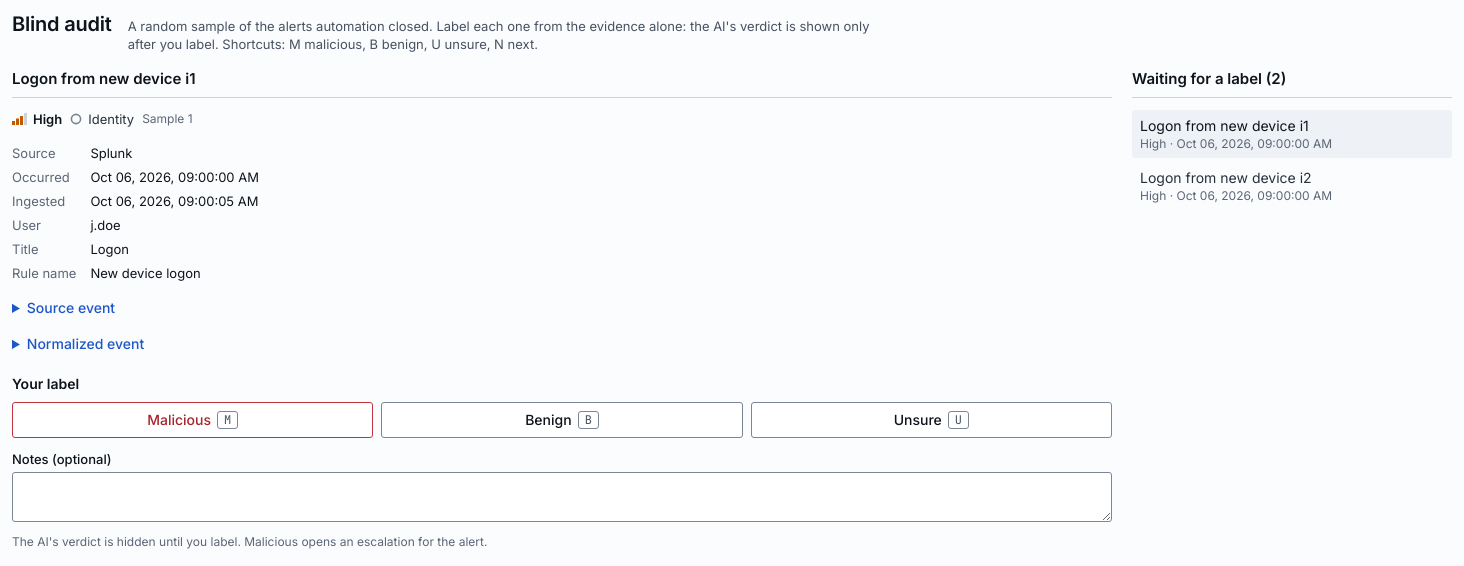
Test: BlindAuditPage › shows the evidence without any AI verdict, then reveals it after the label
expect the heading "Logon from new device i1" is shown: met, box x1=12 y1=69 x2=196 y2=89
expect the text "j.doe" is shown: met, box x1=90 y1=217 x2=121 y2=233
In the text box labelled "Notes (optional)": [562, 497] box x1=12 y1=472 x2=1112 y2=522, type "normal travel"
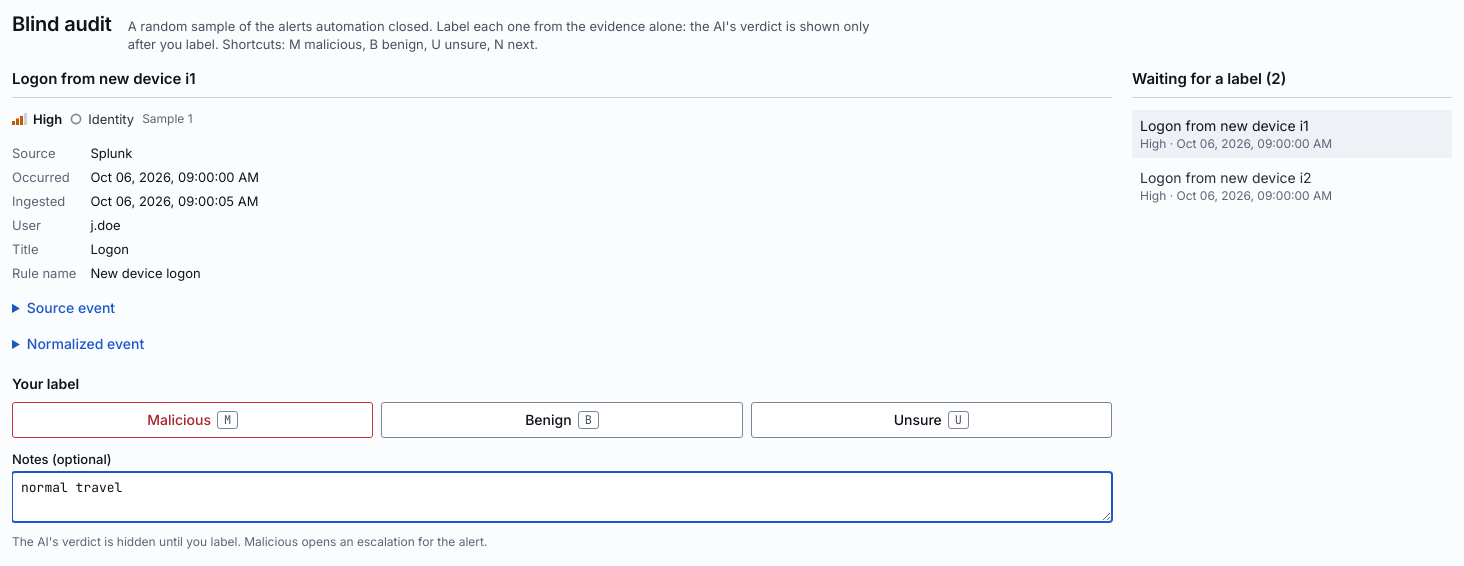
Click the button "Benign B": [562, 420] box x1=381 y1=402 x2=743 y2=438
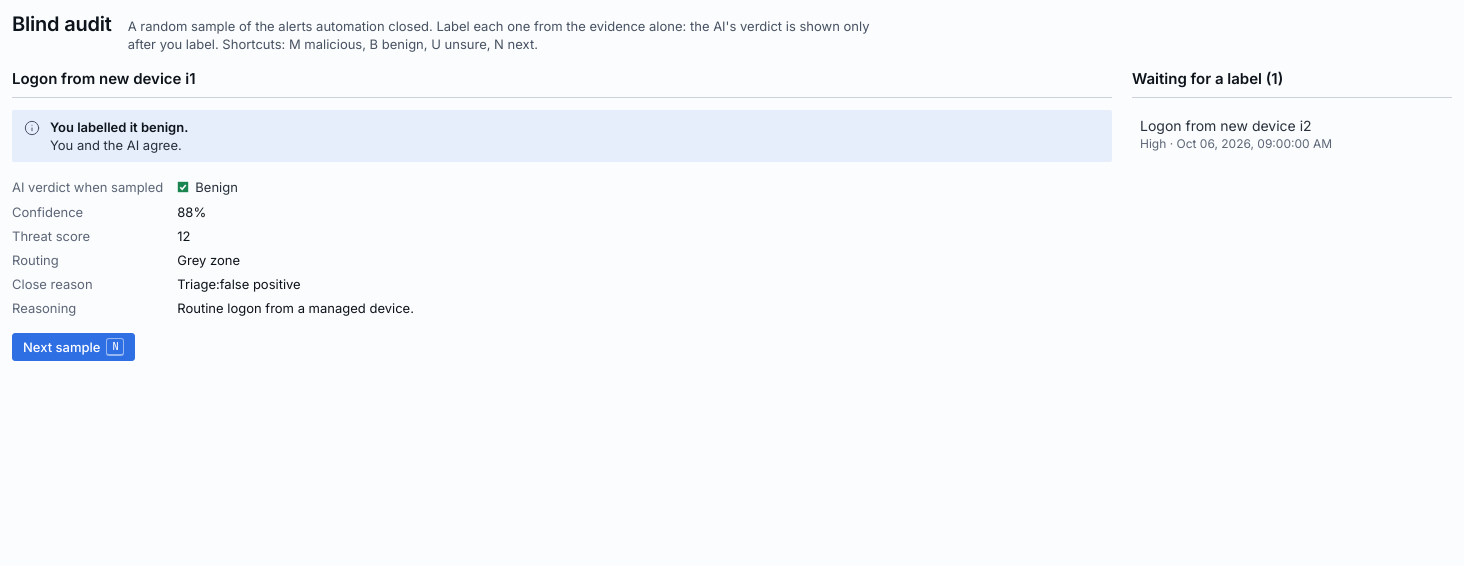
expect the text "You and the AI agree." is shown: met, box x1=50 y1=137 x2=182 y2=153
expect the text "Routine logon from a managed device." is shown: met, box x1=177 y1=300 x2=414 y2=316
expect the text "88%" is shown: met, box x1=177 y1=204 x2=206 y2=220
Click the button "Next sample N": [74, 347] box x1=12 y1=333 x2=135 y2=361
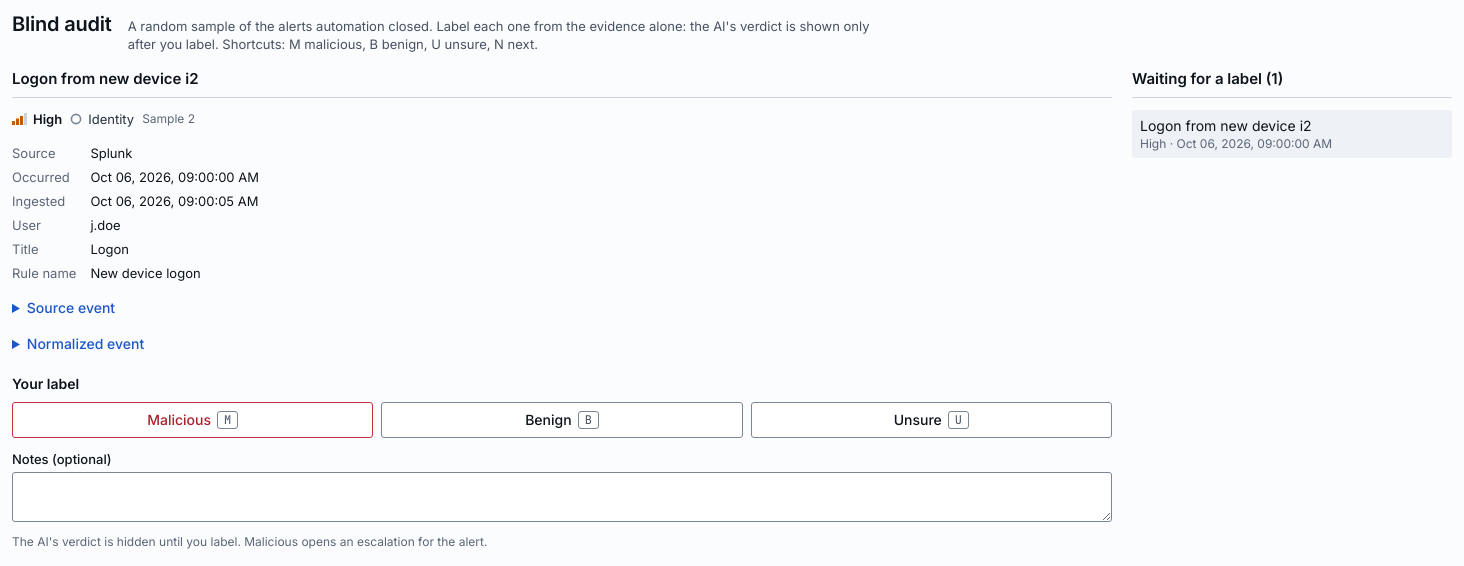
expect the heading "Logon from new device i2" is shown: met, box x1=12 y1=69 x2=198 y2=89
